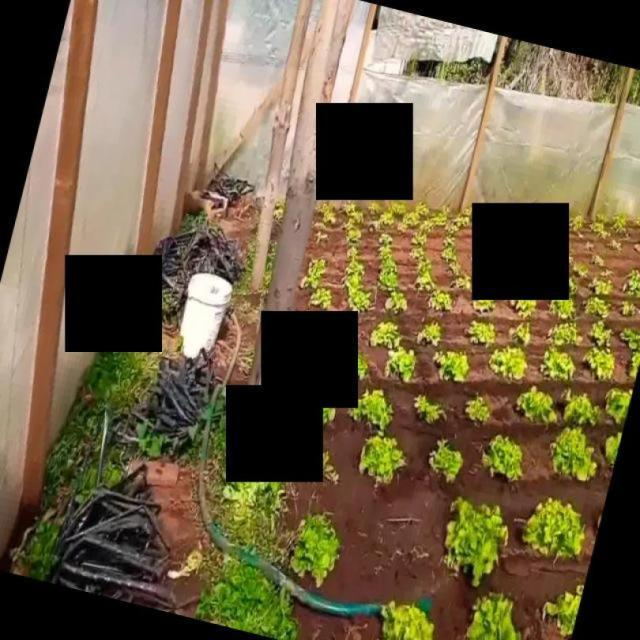Baby: (360, 432, 406, 484), (483, 435, 523, 481), (401, 394, 446, 431), (427, 440, 463, 482), (517, 386, 555, 424), (433, 353, 469, 381), (465, 397, 491, 422)
Mature: (446, 498, 507, 586), (523, 499, 584, 558)
